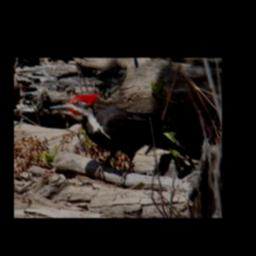Woodpecker: (46, 92, 201, 185)
